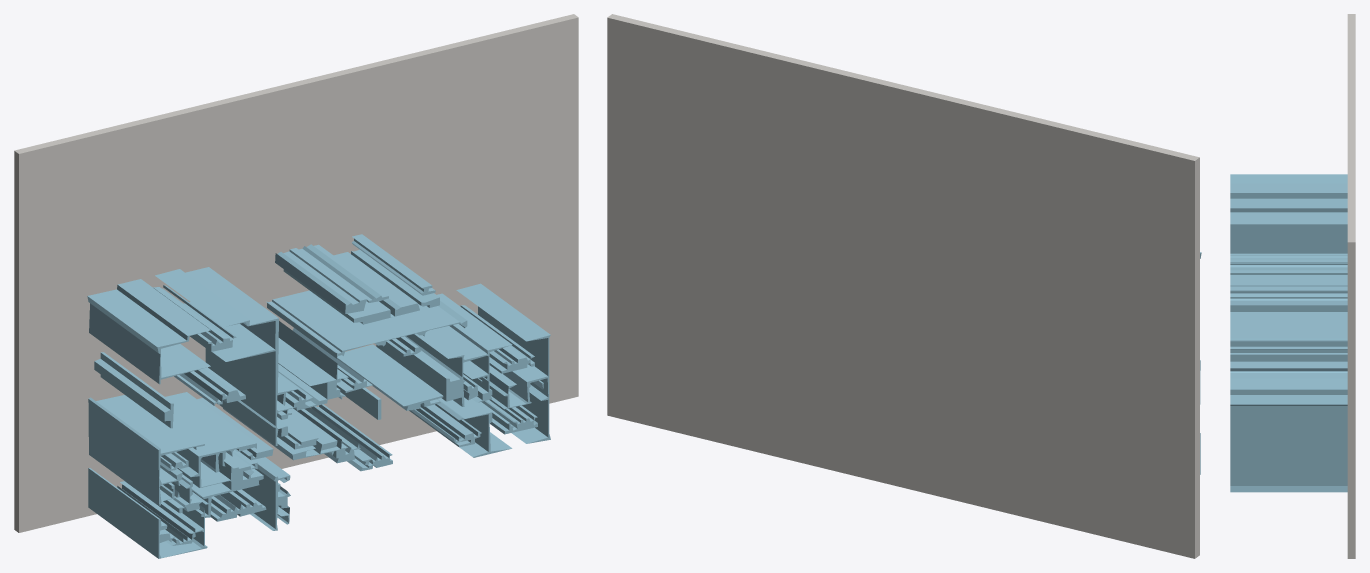
The picture shows the model from 3 angles, left to right: view 1: azimuth 30°, elevation 25°; view 2: azimuth 150°, elevation 25°; view 3: azimuth 270°, elevation 25°; orthographic projection. The views are drawn at different scales.
Visible parts, largest first — view 1: world; view 2: world; view 3: world.
Part boxes in pixels (x1,y1,x2,y2): world: (14, 14, 578, 558); world: (607, 14, 1201, 558); world: (1230, 14, 1355, 558).
Bounding box in the file's own units: 10.23 × 6.62 × 2.37.
